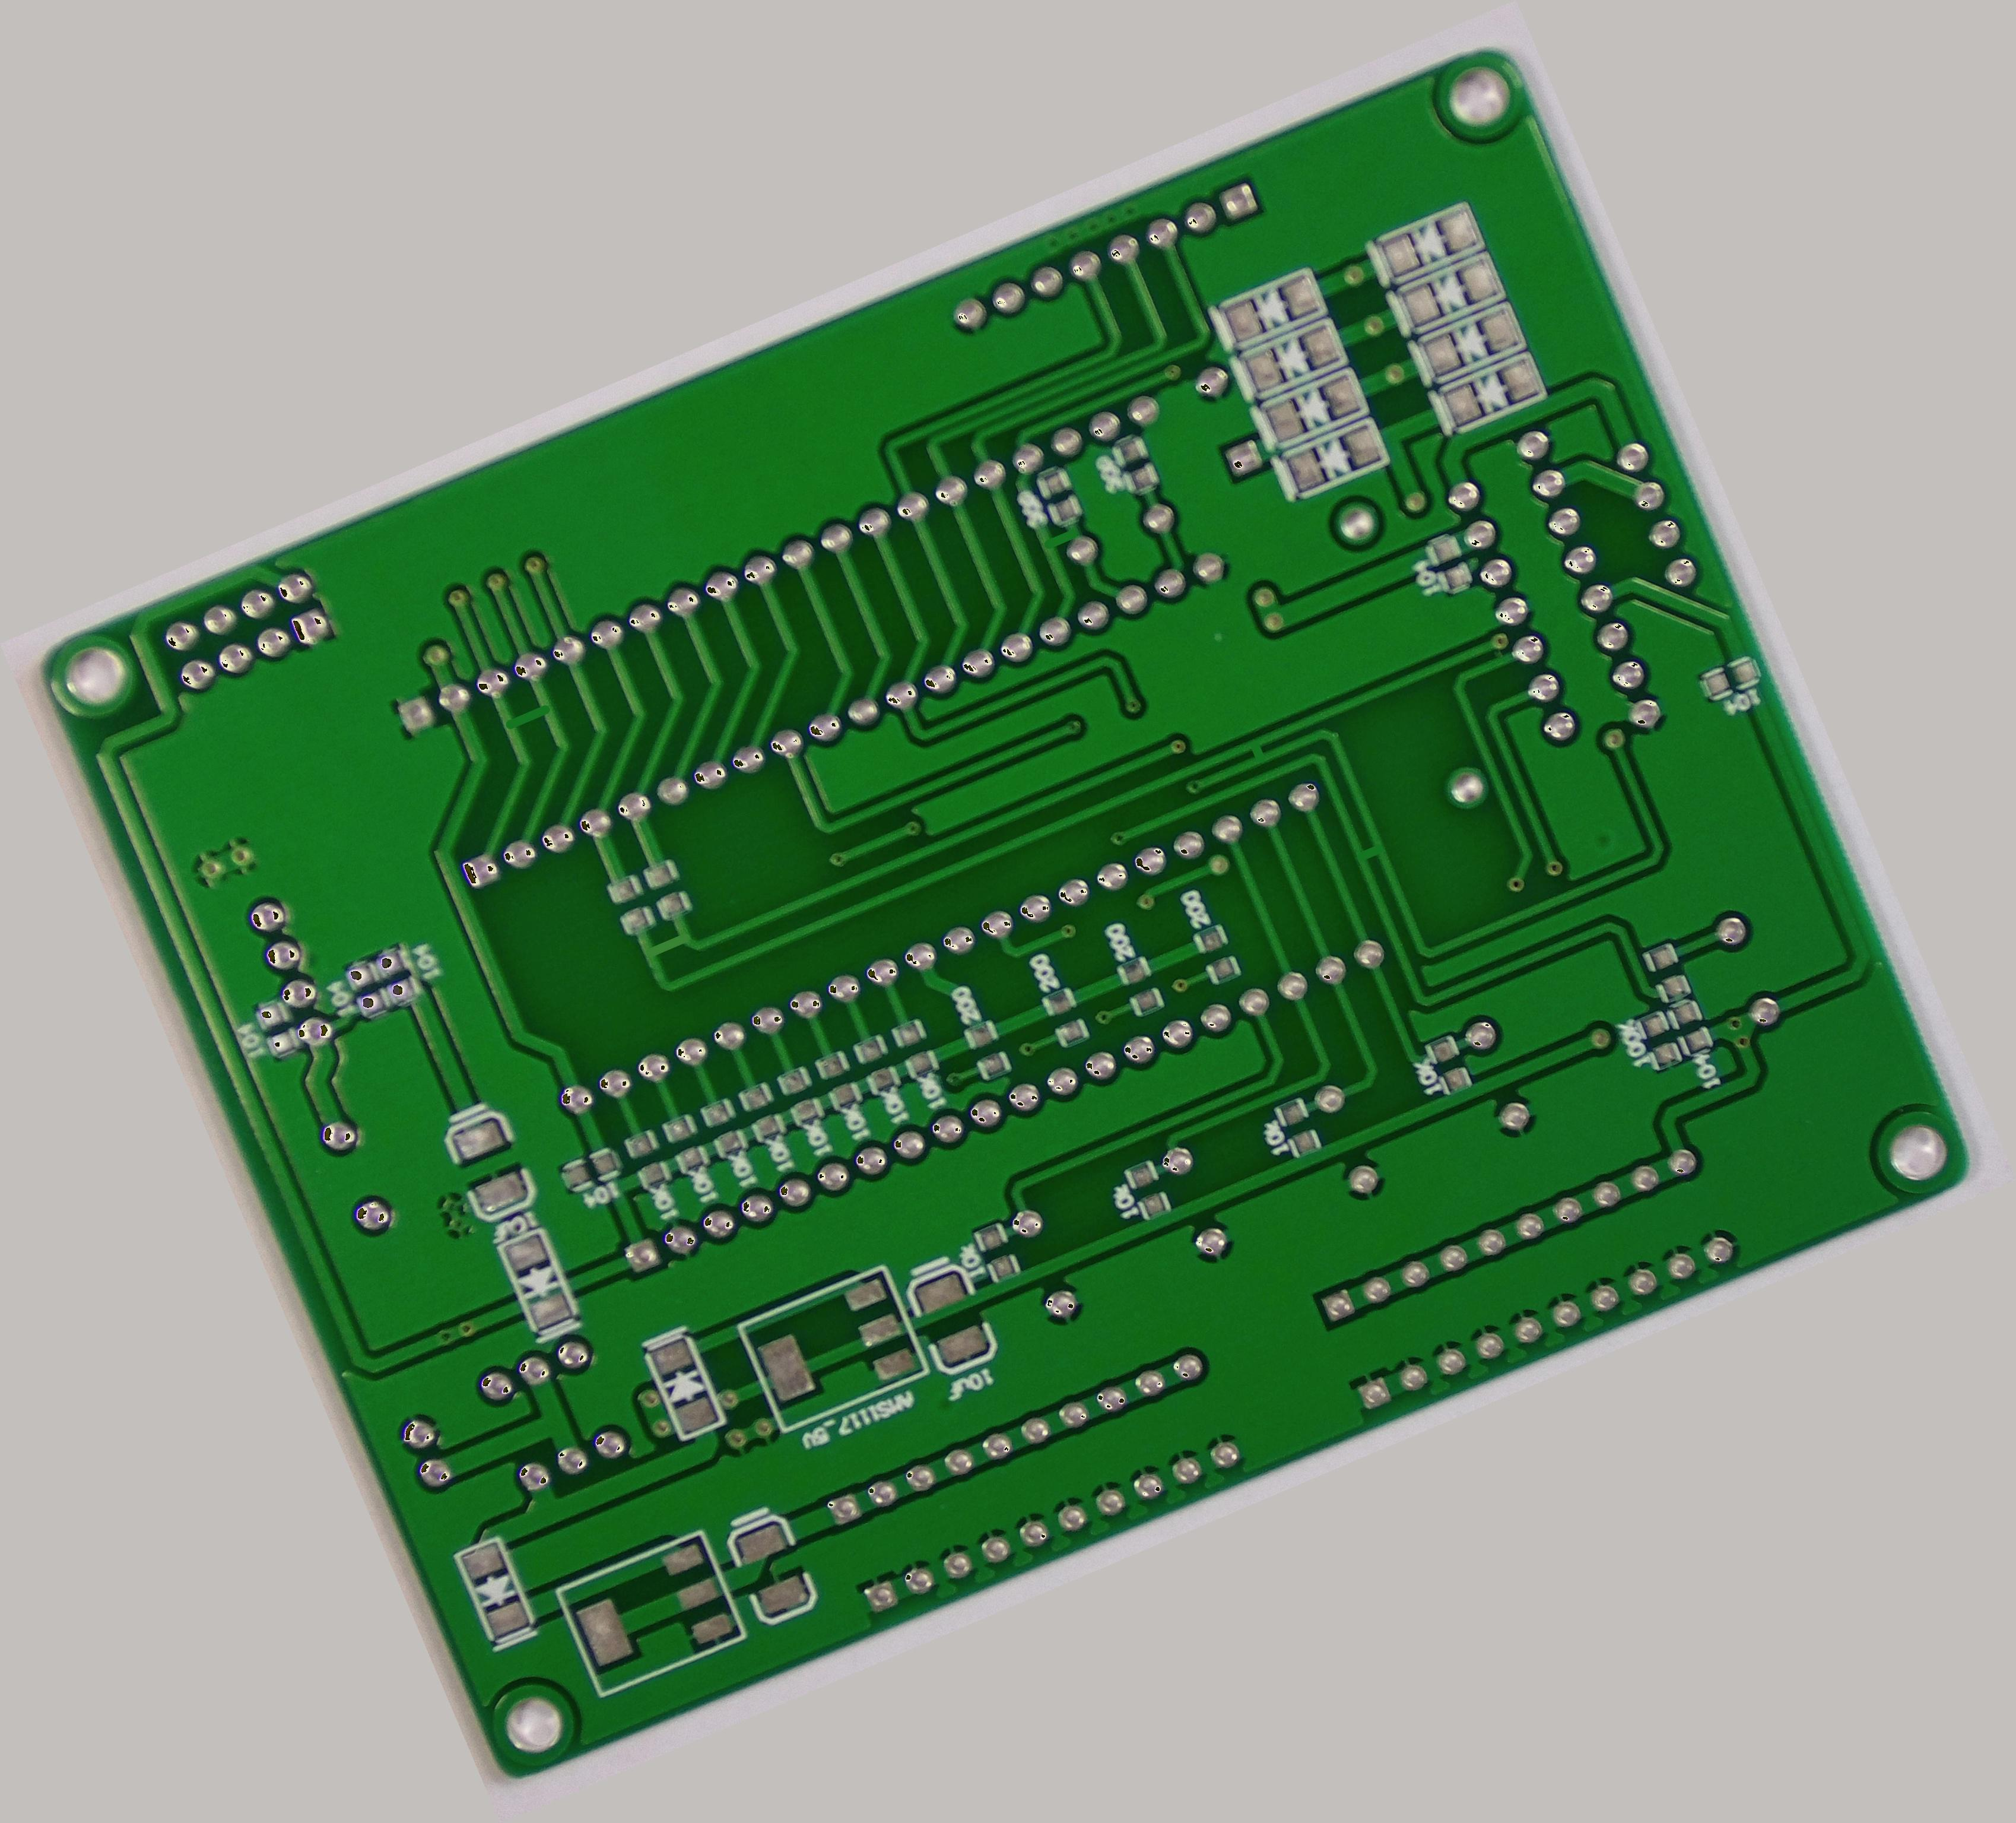short: (627, 919, 704, 976), (490, 688, 562, 745), (1029, 508, 1096, 564), (1342, 829, 1400, 878), (1229, 725, 1280, 771)
